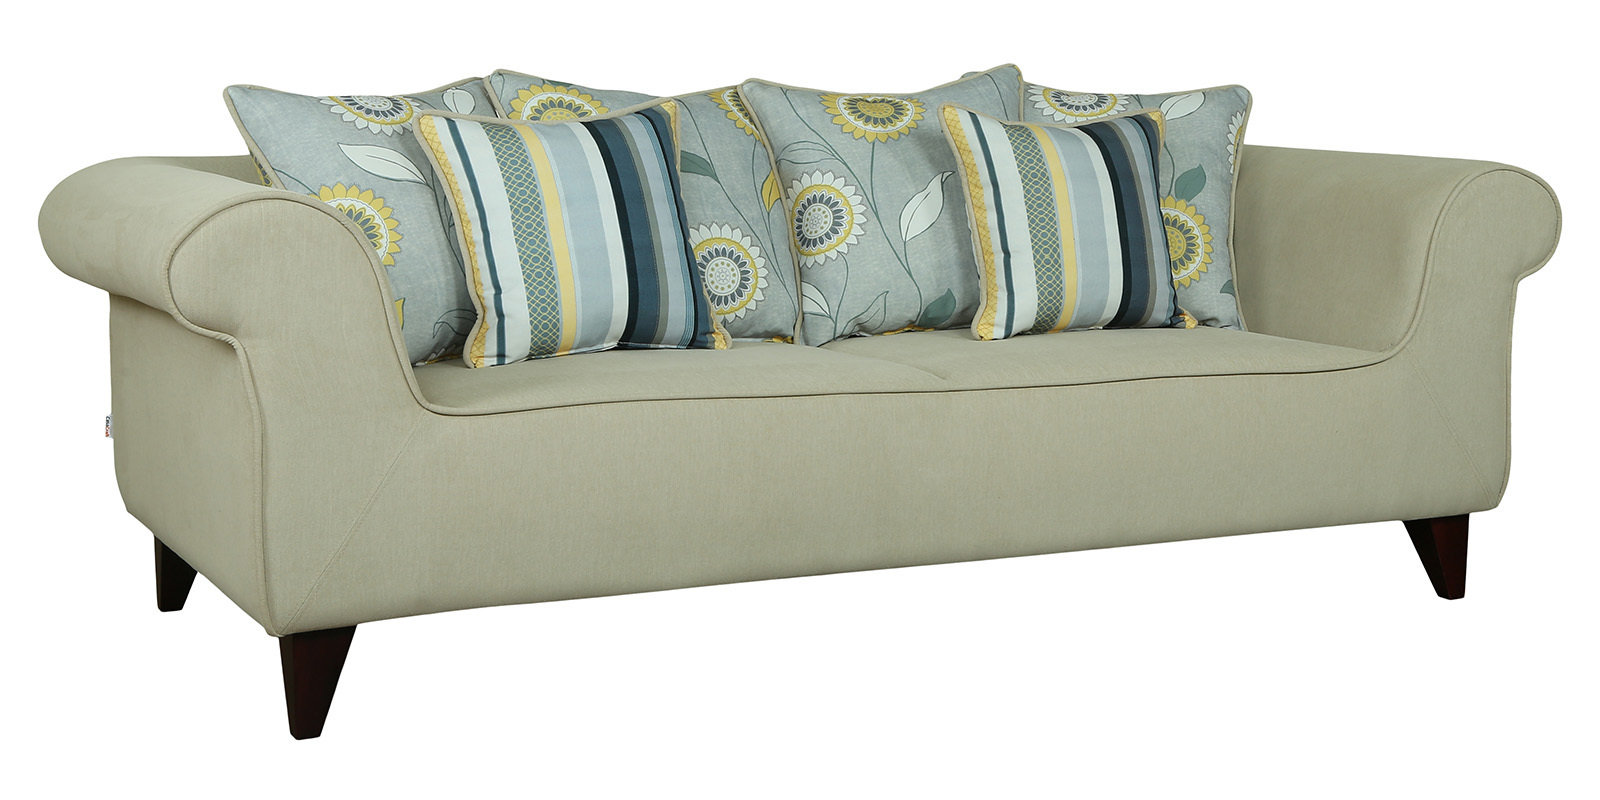Cielo Three Seater Sofa in Beige Colour by CasaCraft: (43, 63, 1576, 658)
